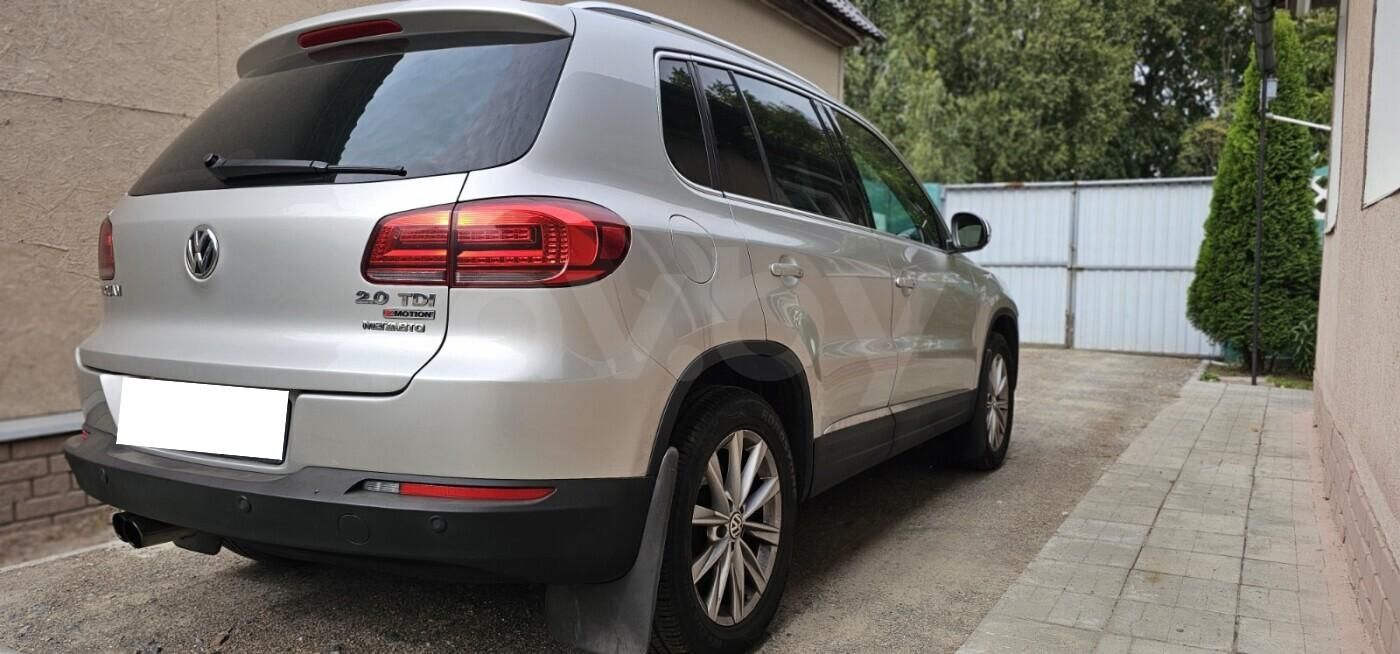Tiguan_2011-2018: (60, 0, 1027, 650)
